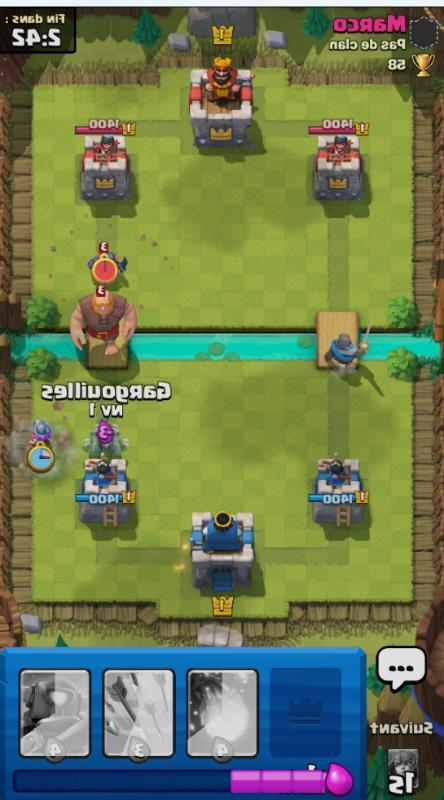enemy_giant: (67, 286, 140, 360)
player_knight: (319, 322, 375, 373)
player_musketeer: (29, 413, 53, 446)
